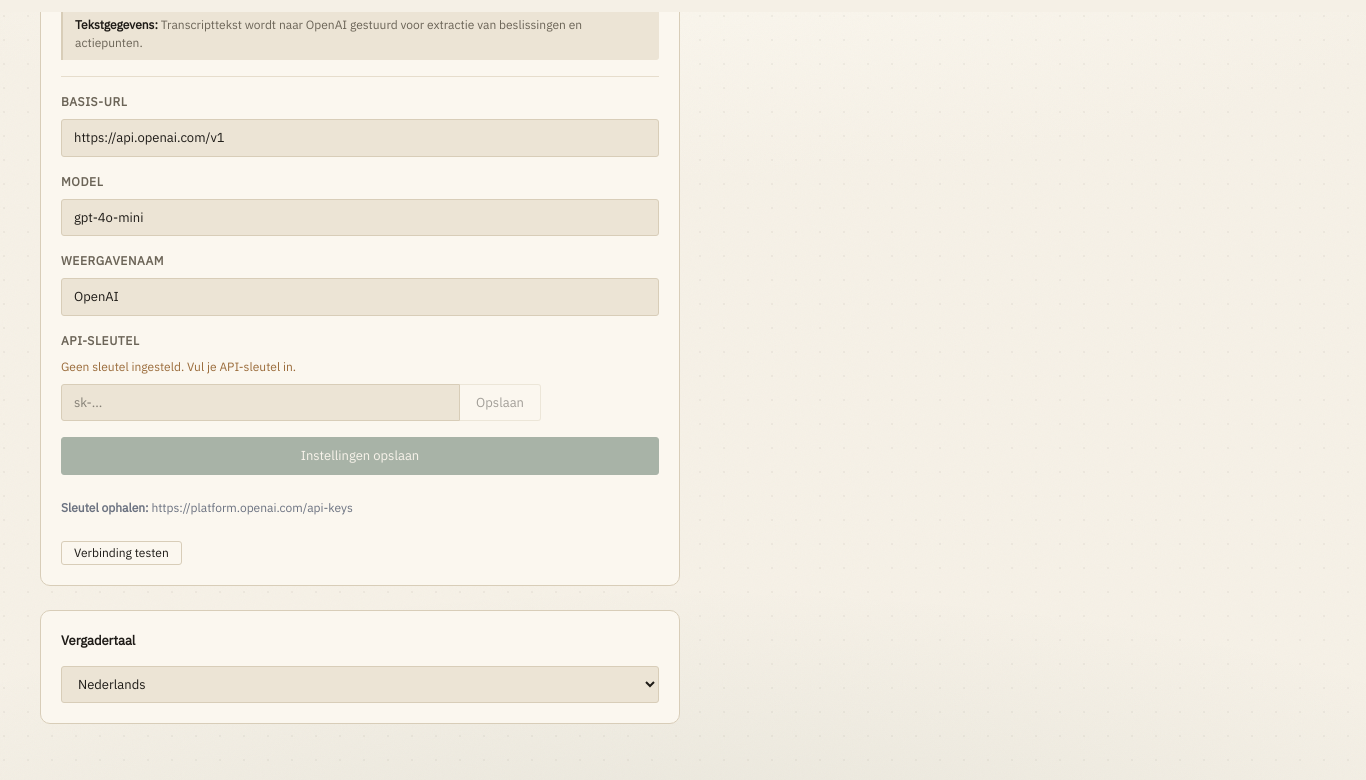
Test: SettingsScreen — custom key saved state (Phase 1.2 bugfix) › shows saved status after saving a custom key
(page scrolled)
Type "sk-test-key-123" into the password field with test id "custom-openai-key".
click(261, 402); type("sk-test-key-123")  # box [61,384,460,421]
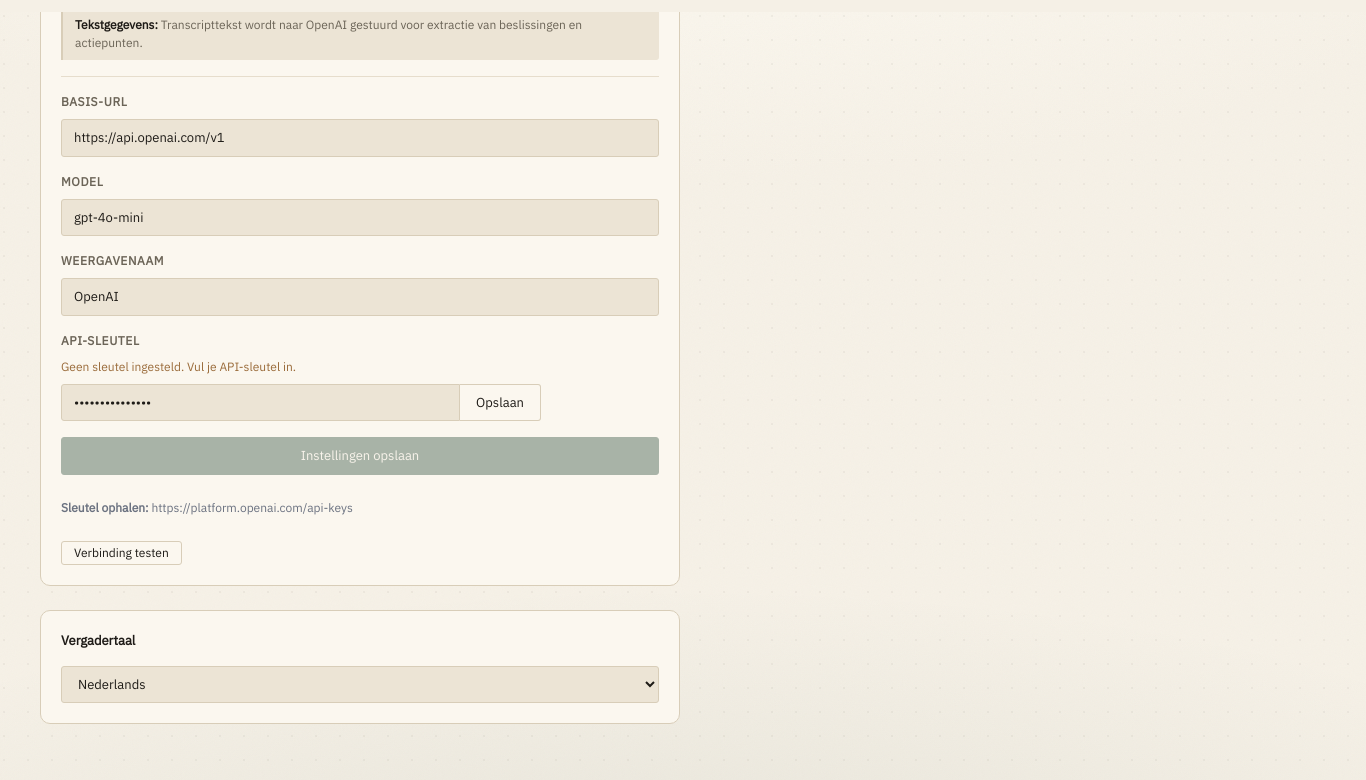
Click the button with test id "save-custom-key".
click(501, 402)  # box [460,384,541,421]
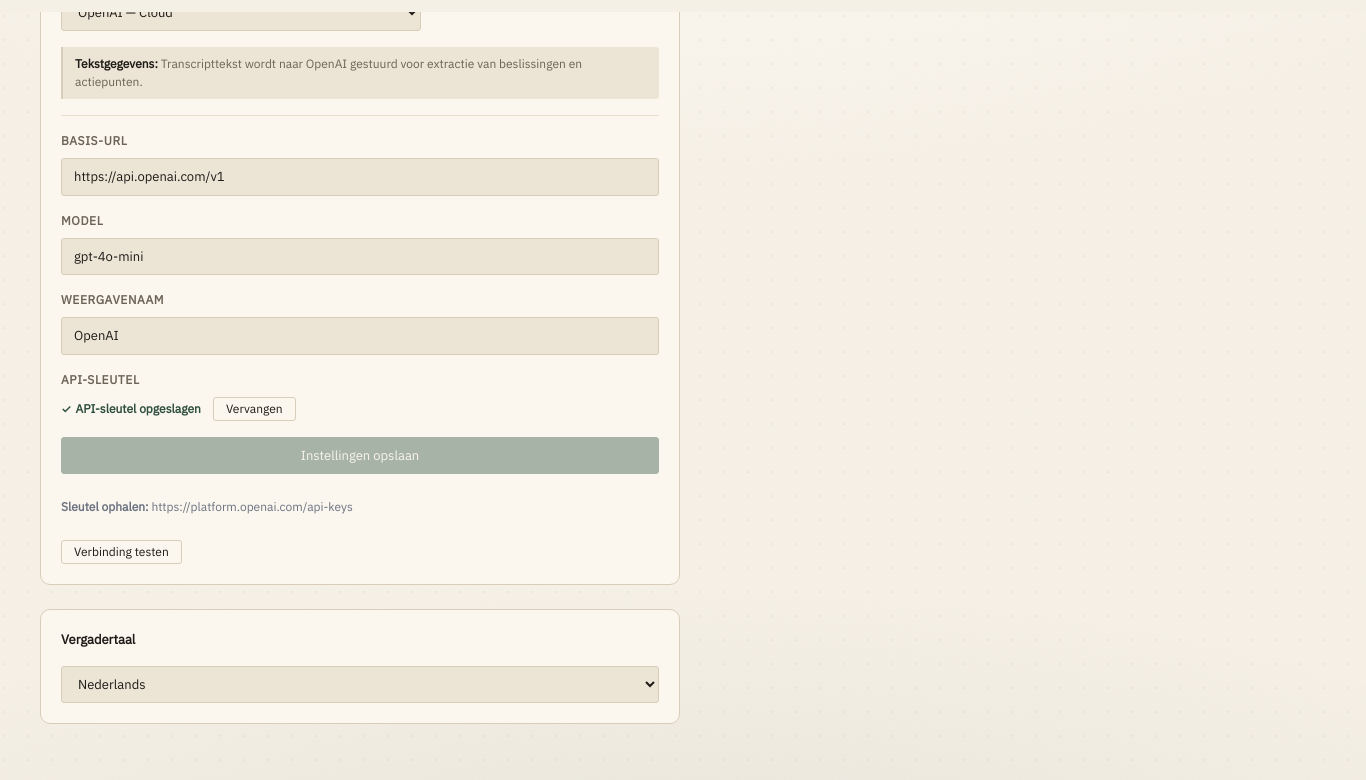
Now the element with test id "custom-openai-key-status" is shown, box [76,396,296,420]
